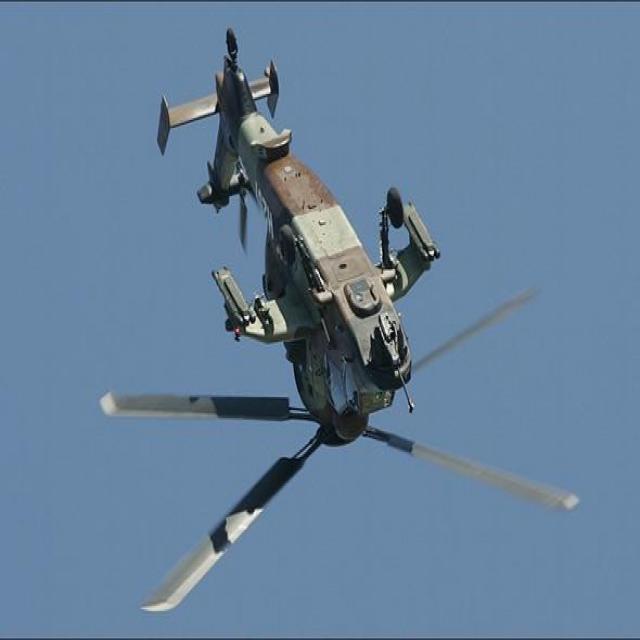MIL_HELO: (91, 21, 610, 619)
